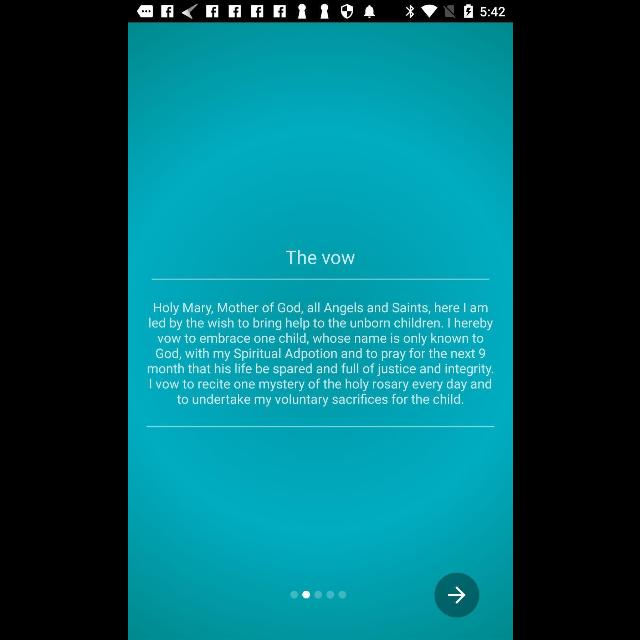button: (433, 572, 479, 618)
pageindicator: (289, 590, 347, 600)
text: (147, 302, 493, 408), (284, 250, 354, 264)
uppertaskbar: (128, 1, 512, 23)
